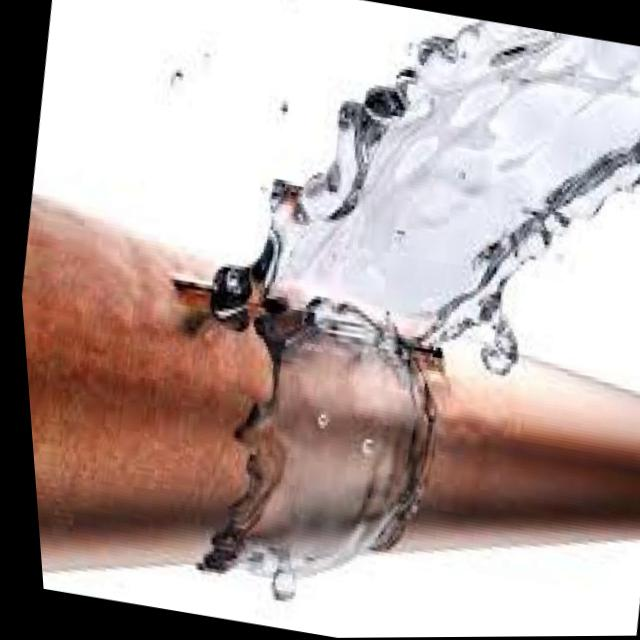leak: (204, 26, 607, 576)
